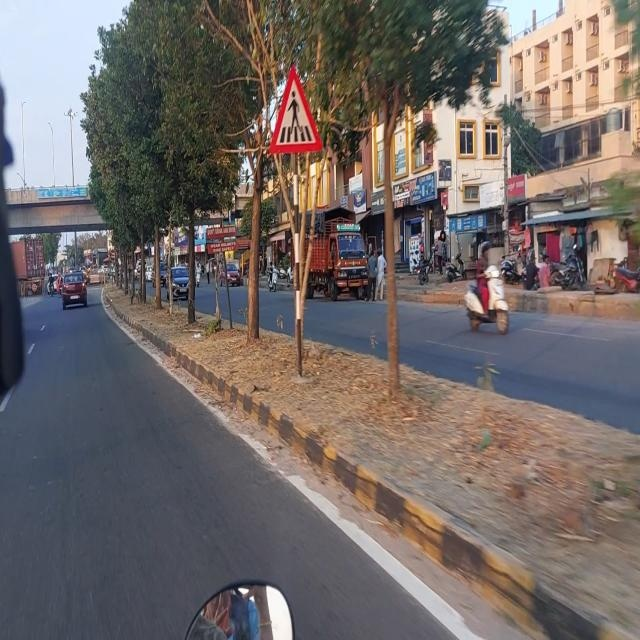bien_chi_dan: (269, 64, 323, 154)
